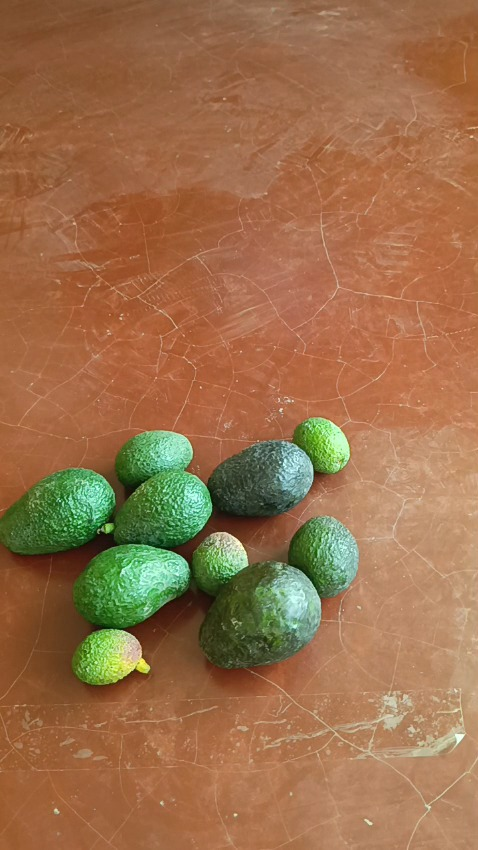Primera: (198, 560, 322, 667), (73, 543, 192, 629), (0, 468, 116, 554), (206, 440, 313, 515), (112, 469, 212, 547)
Segunda: (288, 515, 359, 597), (114, 430, 194, 488)
Tercera: (71, 627, 142, 684), (191, 531, 250, 596), (291, 417, 349, 474)
